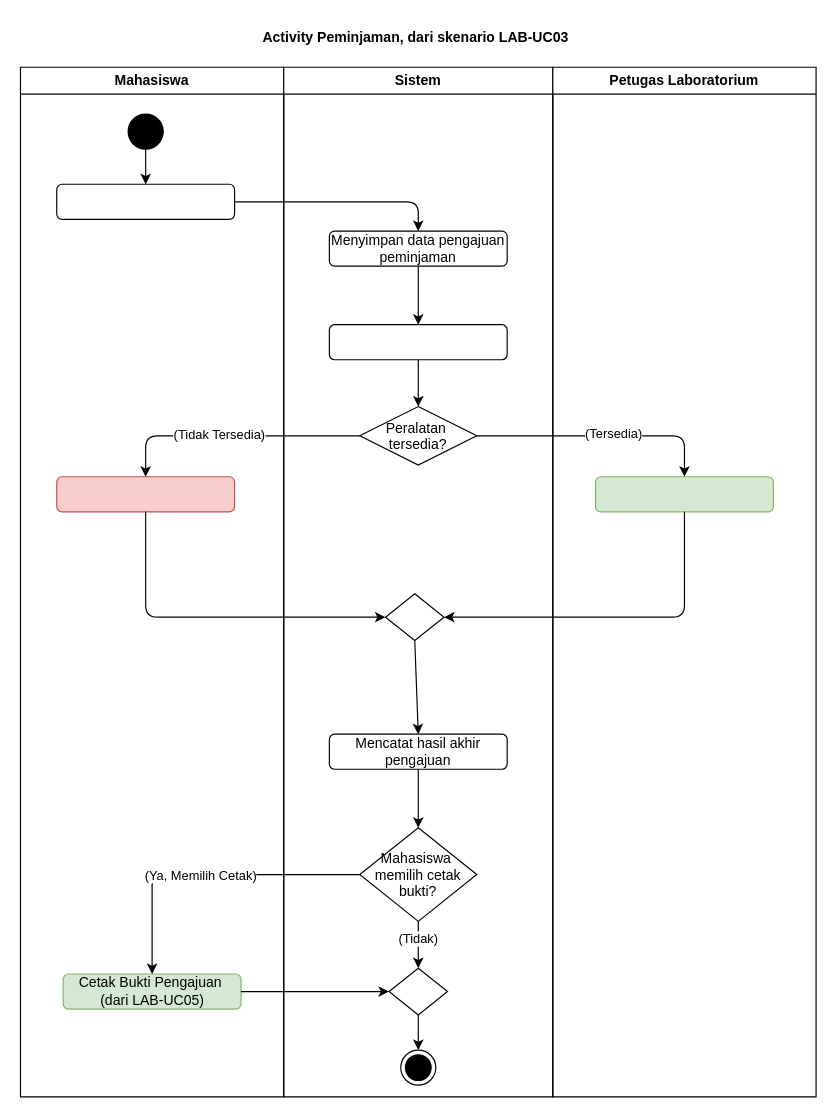
Some shapes in this 837 by 1117 pixel diagram are drawn without their labels. The centre of each missing label's shape, as x and y in pixels:
"Memproses keputusan peminjaman" belongs at pixel 683 494.
"Menerima pemberitahuan pengajuan tidak terpenuhi" belongs at pixel 145 494.
"Mengisi Formulir Pengajuan Peminjaman" belongs at pixel 145 201.
"Periksa ketersediaan (dari LAB-UC04)" belongs at pixel 417 342.
